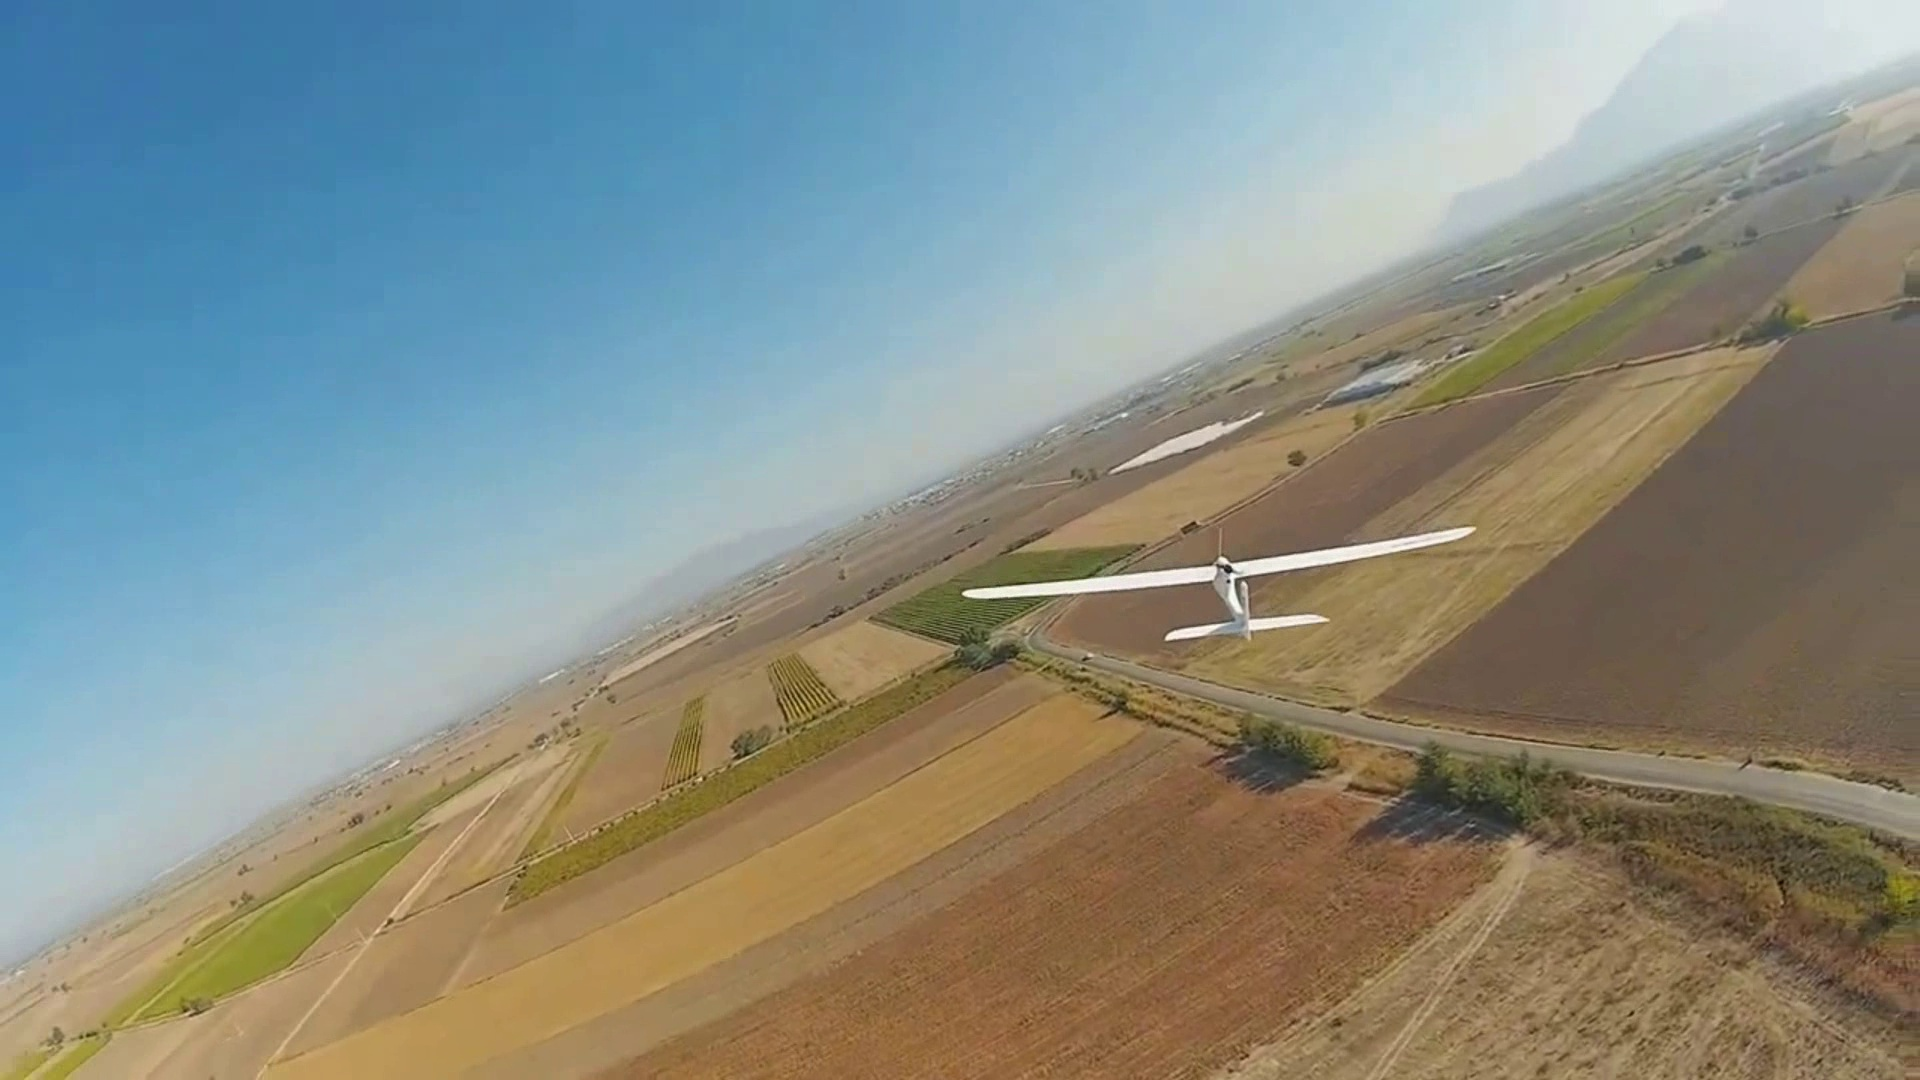airplane: (953, 517, 1479, 648)
